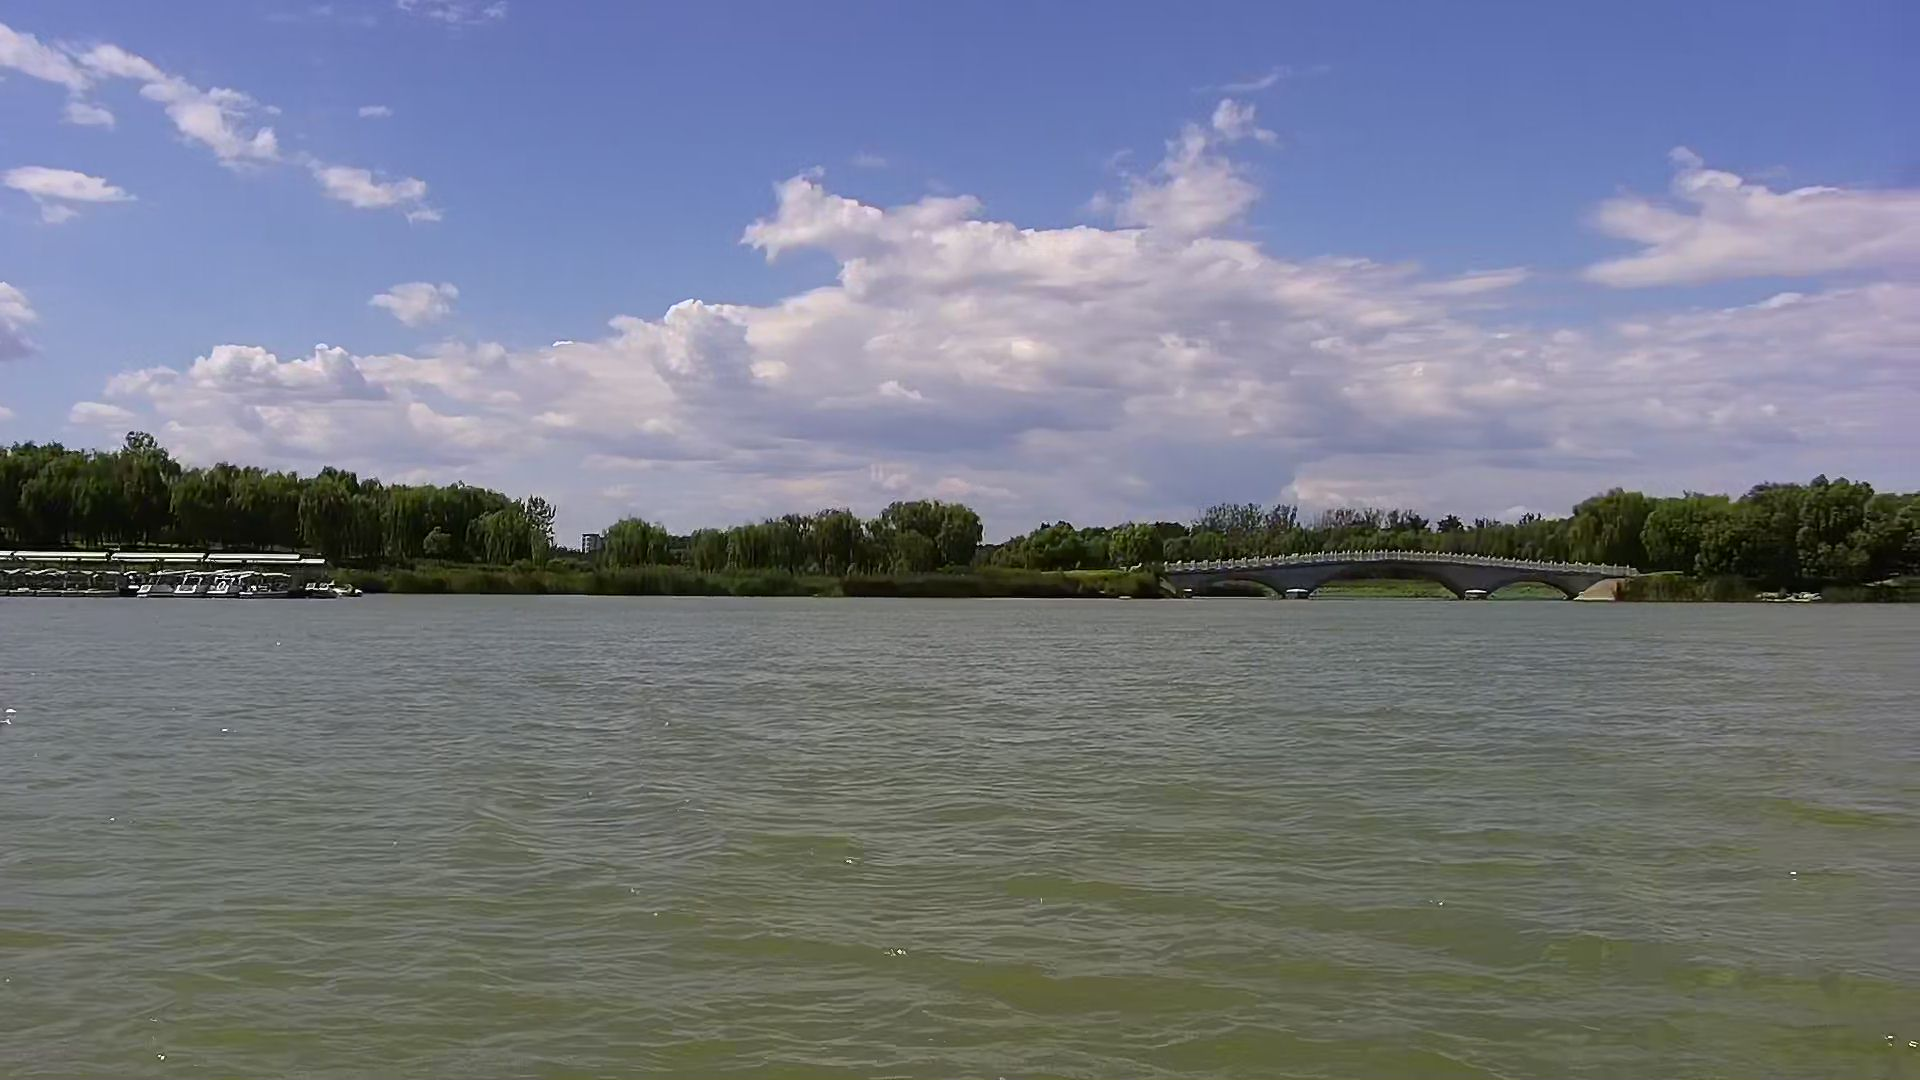bridge: (1154, 553, 1638, 599)
harbor: (1, 554, 348, 607)
